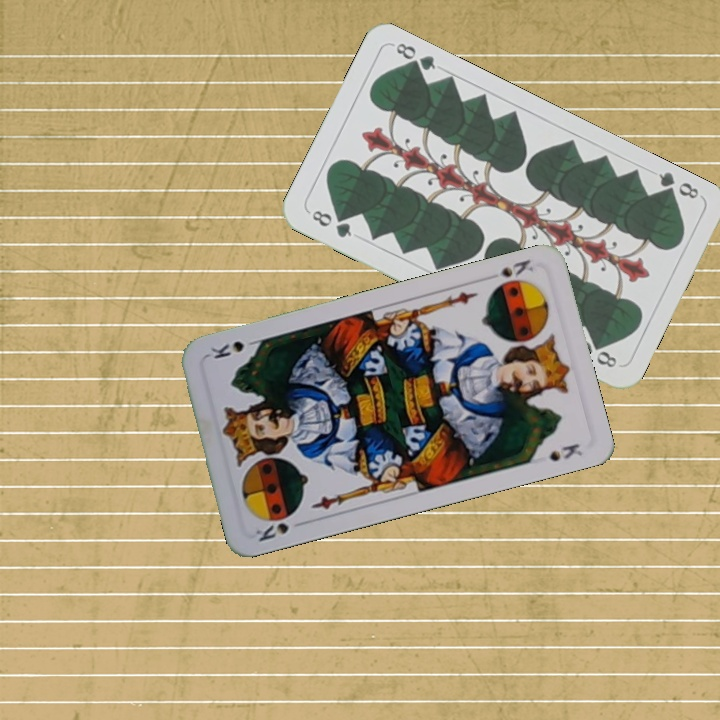G8: (654, 168, 702, 203), (307, 206, 355, 240)
SK: (488, 255, 536, 292), (251, 518, 292, 544)
